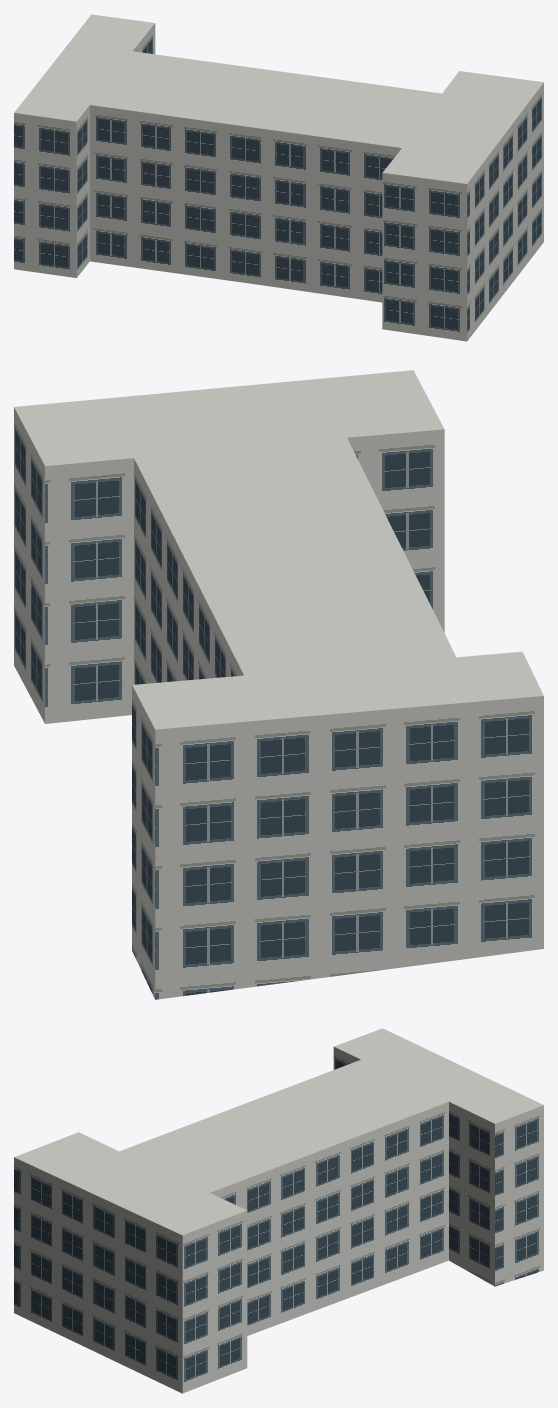
The model's file is city_-4_5.glb.
3 renders of one model, top to bottom at view 1: azimuth 30°, elevation 25°; view 2: azimuth 150°, elevation 25°; view 3: azimuth 270°, elevation 25°, orthographic. The views are drawn at different scales.
Bounding box in the file's own units: 37.86 × 14.1 × 40.94.
1 material, 1 textured.
